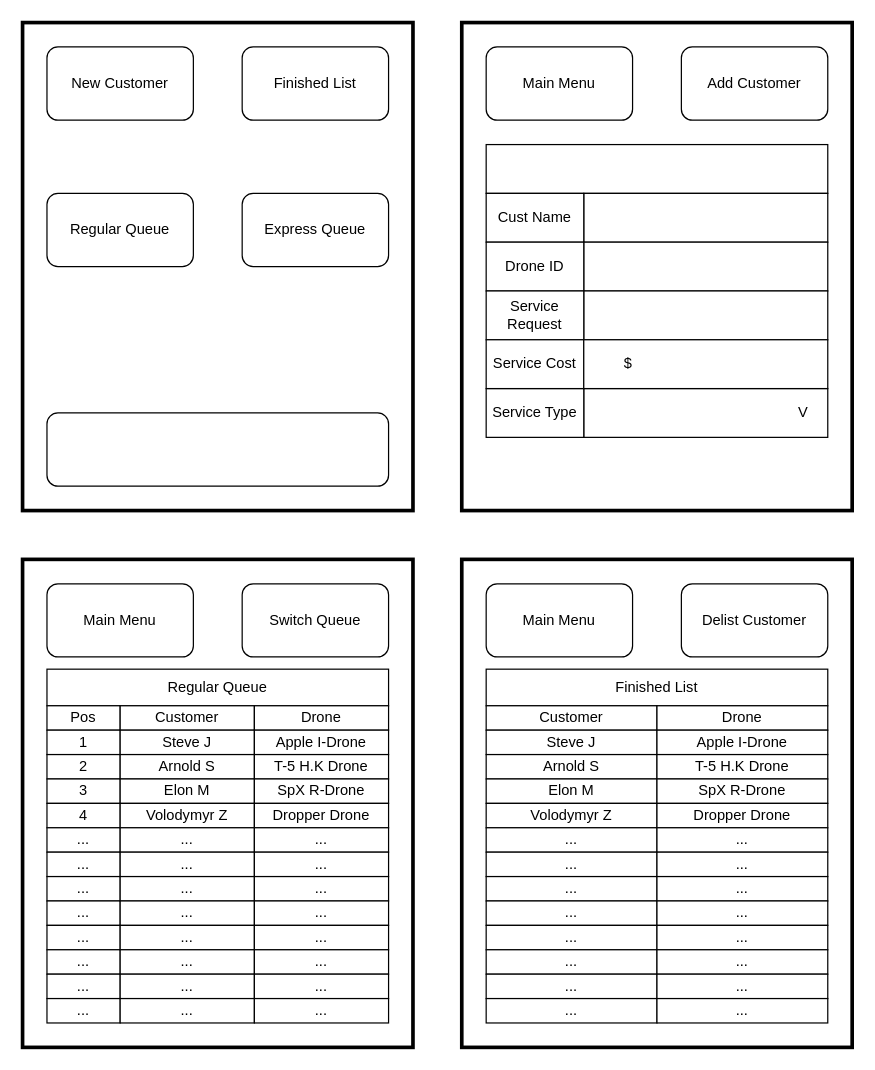
This 875x1070 diagram has some shape labels left out. The centre of each missing label's shape, as x and y in pixels:
Job Completion Notification Pop Up: the point at 217,449
New Customer Information: the point at 656,168
